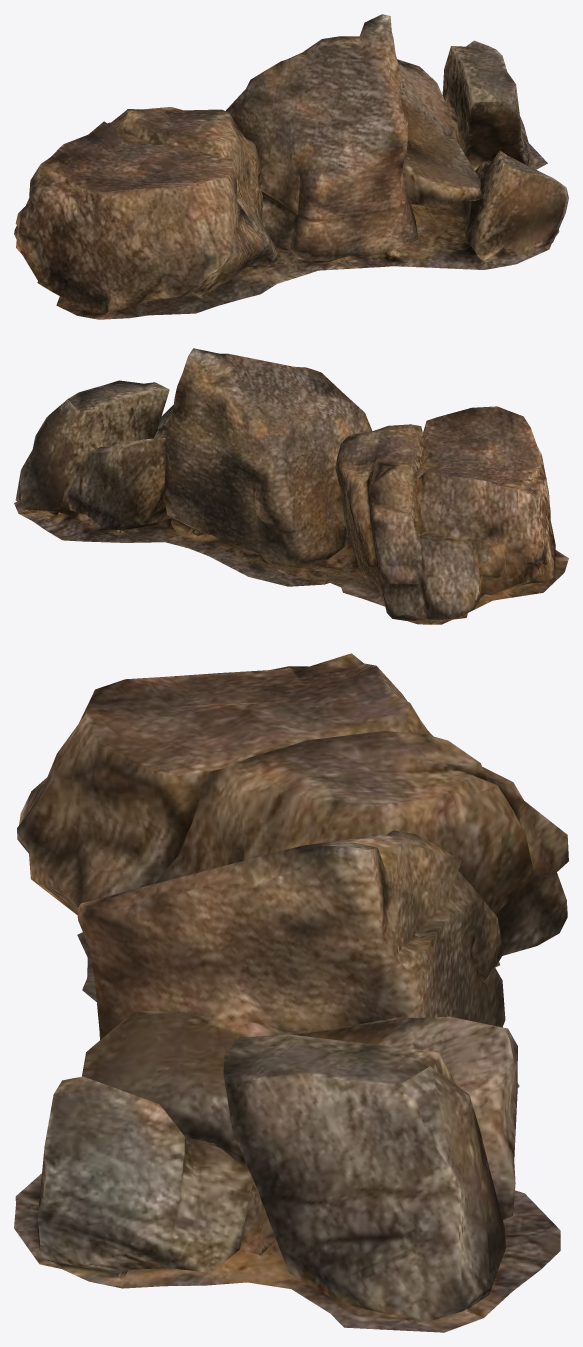
File: rock_namaqualand_boulder_02.glb
The picture shows the model from 3 angles, top to bottom: view 1: azimuth 30°, elevation 25°; view 2: azimuth 150°, elevation 25°; view 3: azimuth 270°, elevation 25°; orthographic projection. The views are drawn at different scales.
Parts seen in each view (by area): view 1: boulder_02; view 2: boulder_02; view 3: boulder_02.
Part boxes in pixels (x1,y1,x2,y2): boulder_02: (14, 14, 568, 319); boulder_02: (14, 348, 568, 624); boulder_02: (14, 653, 568, 1332).
Bounding box in the file's own units: 2.51 × 0.8789 × 1.23.
1 material, 1 textured.
